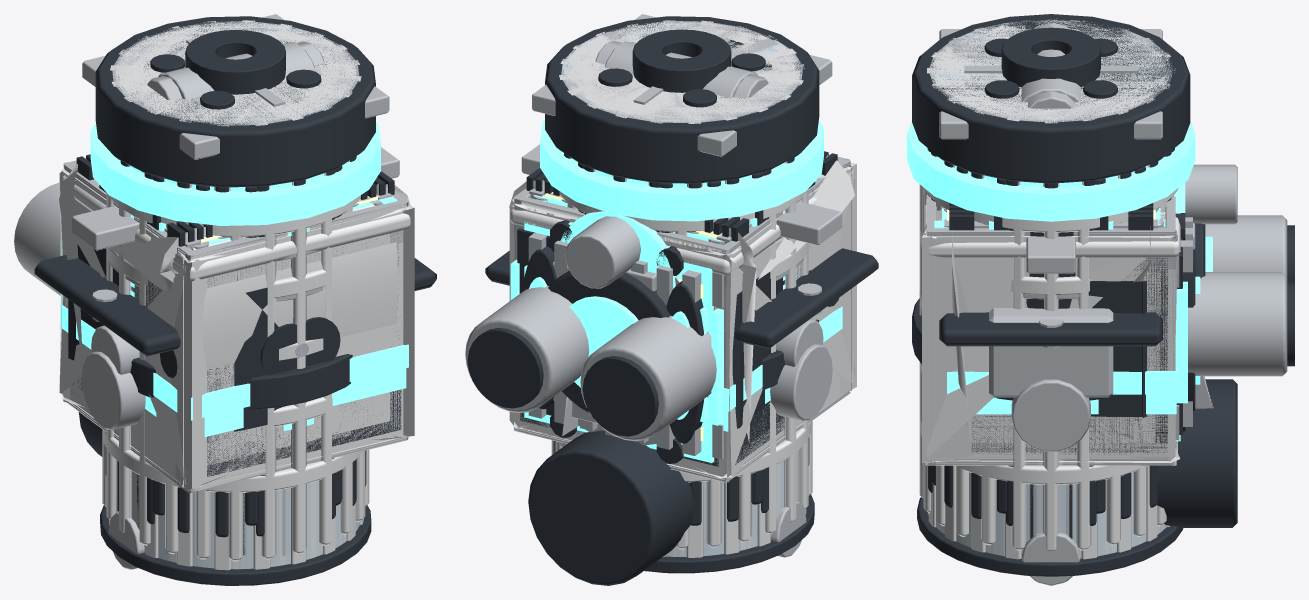
File: PartKit.fbx
3 views of the same model, side by side, from view 1: azimuth 30°, elevation 25°; view 2: azimuth 150°, elevation 25°; view 3: azimuth 270°, elevation 25° (orthographic). The views are drawn at different scales.
Parts seen in each view (by area): view 1: KIT_sensor_cylinder-climate__CAP, KIT_switch_cylinder-dial, KIT_fan_box, KIT_sensor_cylinder-climate__ACC, KIT_crawler_box, KIT_telescopic_cylinder__COLLAR, KIT_motor_cylinder, KIT_gear_cylinder__HUB, KIT_any_box, KIT_motor_box-servo, KIT_gear_cylinder, KIT_any_cylinder (+36 smaller); view 2: KIT_motor_cylinder-linear__MOTOR, KIT_sensor_cylinder-climate__CAP, KIT_sensor_box-ultrasonic__EYE, KIT_sensor_cylinder-climate__ACC, KIT_sensor_box-ultrasonic__MESH, KIT_gear_cylinder__HUB, KIT_switch_cylinder-dial, KIT_motor_box-servo, KIT_heater_box-ptc, KIT_pump_cylinder__PORT, KIT_gear_cylinder, KIT_fan_box (+41 smaller); view 3: KIT_sensor_cylinder-climate__CAP, KIT_sensor_box-ultrasonic__EYE, KIT_switch_cylinder-dial, KIT_sensor_cylinder-climate__ACC, KIT_motor_cylinder-linear__MOTOR, KIT_fan_box, KIT_latch_box__BOLT, KIT_motor_box-servo, KIT_gear_cylinder__HUB, KIT_canopy_cylinder, KIT_telescopic_cylinder__COLLAR, KIT_mesh_cover_box (+41 smaller).
Boxes of the visible parts, x1=… form: KIT_sensor_cylinder-climate__CAP: x1=95, y1=16, x2=375, y2=187; KIT_switch_cylinder-dial: x1=102, y1=192, x2=369, y2=566; KIT_fan_box: x1=62, y1=168, x2=414, y2=490; KIT_sensor_cylinder-climate__ACC: x1=90, y1=122, x2=380, y2=225; KIT_crawler_box: x1=191, y1=205, x2=397, y2=369; KIT_telescopic_cylinder__COLLAR: x1=95, y1=82, x2=371, y2=585; KIT_motor_cylinder: x1=103, y1=194, x2=362, y2=492; KIT_gear_cylinder__HUB: x1=150, y1=30, x2=321, y2=109; KIT_any_box: x1=74, y1=233, x2=390, y2=465; KIT_motor_box-servo: x1=34, y1=255, x2=436, y2=467; KIT_gear_cylinder: x1=109, y1=20, x2=363, y2=570; KIT_any_cylinder: x1=125, y1=26, x2=345, y2=569; KIT_motor_cylinder-linear__MOTOR: x1=528, y1=430, x2=693, y2=585; KIT_sensor_cylinder-climate__CAP: x1=545, y1=16, x2=819, y2=183; KIT_sensor_box-ultrasonic__EYE: x1=465, y1=286, x2=716, y2=441; KIT_sensor_cylinder-climate__ACC: x1=540, y1=119, x2=823, y2=221; KIT_sensor_box-ultrasonic__MESH: x1=467, y1=328, x2=658, y2=436; KIT_gear_cylinder__HUB: x1=598, y1=29, x2=765, y2=107; KIT_switch_cylinder-dial: x1=551, y1=189, x2=812, y2=549; KIT_motor_box-servo: x1=485, y1=248, x2=878, y2=460; KIT_heater_box-ptc: x1=509, y1=170, x2=854, y2=480; KIT_pump_cylinder__PORT: x1=565, y1=216, x2=640, y2=288; KIT_gear_cylinder: x1=559, y1=20, x2=806, y2=557; KIT_fan_box: x1=512, y1=163, x2=856, y2=478; KIT_sensor_cylinder-climate__CAP: x1=912, y1=14, x2=1190, y2=183; KIT_sensor_box-ultrasonic__EYE: x1=1188, y1=215, x2=1287, y2=376; KIT_switch_cylinder-dial: x1=919, y1=184, x2=1178, y2=550; KIT_sensor_cylinder-climate__ACC: x1=907, y1=121, x2=1195, y2=221; KIT_motor_cylinder-linear__MOTOR: x1=1157, y1=379, x2=1237, y2=527; KIT_fan_box: x1=922, y1=212, x2=1180, y2=462; KIT_latch_box__BOLT: x1=989, y1=308, x2=1113, y2=397; KIT_motor_box-servo: x1=939, y1=283, x2=1167, y2=368; KIT_gear_cylinder__HUB: x1=984, y1=27, x2=1117, y2=98; KIT_canopy_cylinder: x1=927, y1=24, x2=1171, y2=558; KIT_telescopic_cylinder__COLLAR: x1=912, y1=51, x2=1183, y2=576; KIT_mesh_cover_box: x1=926, y1=199, x2=1177, y2=461.
Bounding box in the file's own units: 1.4 × 2.2 × 1.56.
